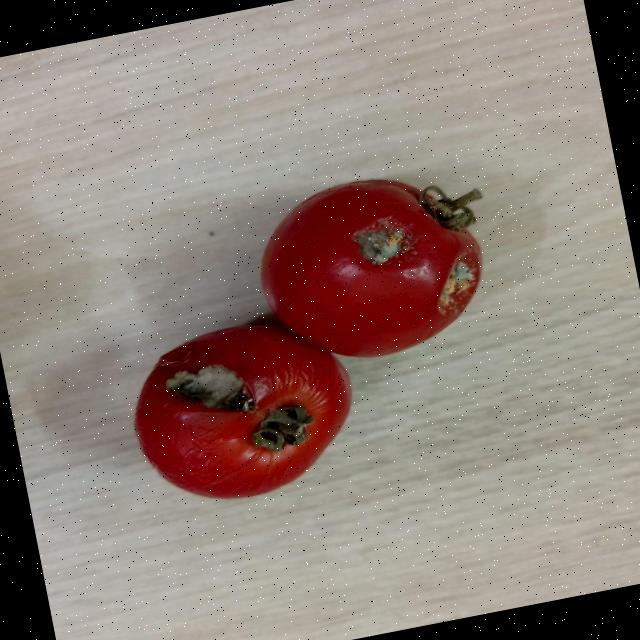Rotten: (244, 160, 496, 377), (117, 307, 366, 518)
